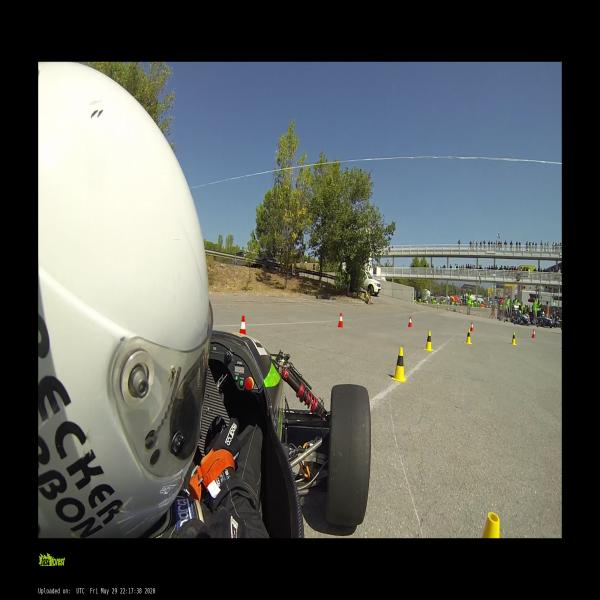orange_cone: (240, 315, 246, 335), (338, 312, 344, 328), (407, 316, 413, 328), (530, 329, 536, 339), (470, 322, 474, 333)
yellow_cone: (391, 346, 407, 382), (423, 330, 433, 352), (464, 328, 471, 345), (511, 332, 516, 346)
